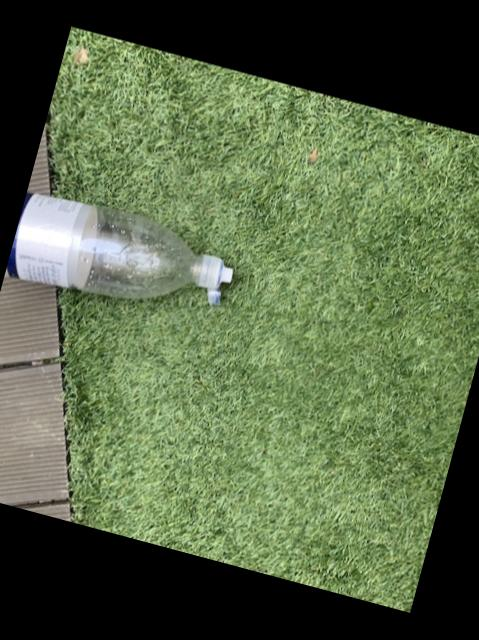plastic: (4, 192, 230, 302)
